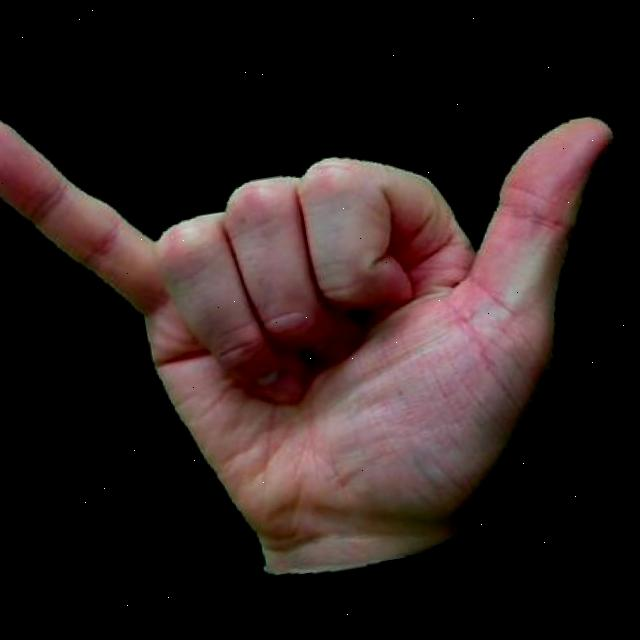y: (0, 2, 640, 634)
